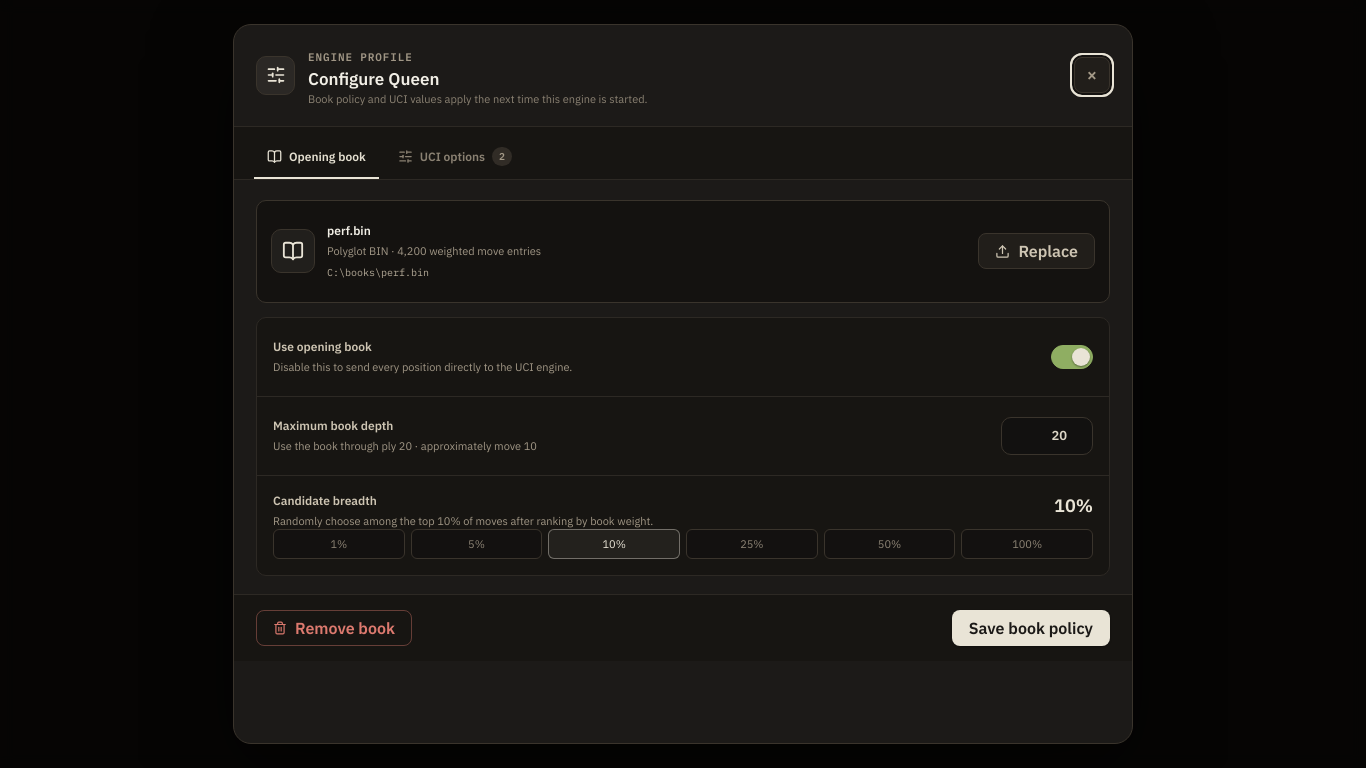
Scenario: engine configuration dialog › keeps book edits dirty when saving the policy fails
The image size is (1366, 768).
Click the button "5%". click: (477, 544)
box: [411,529,542,559]
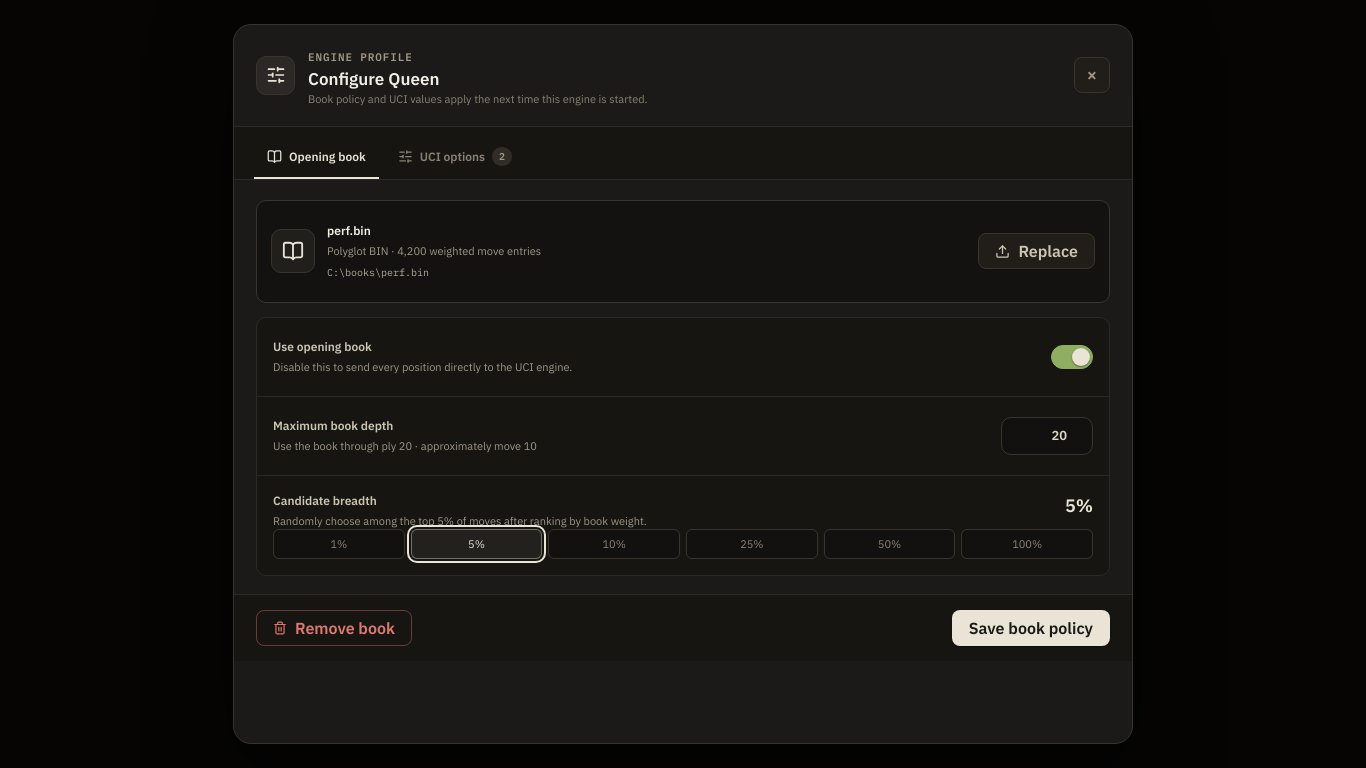
Click the button "Save book policy". click: (1031, 628)
box: [952,610,1110,646]
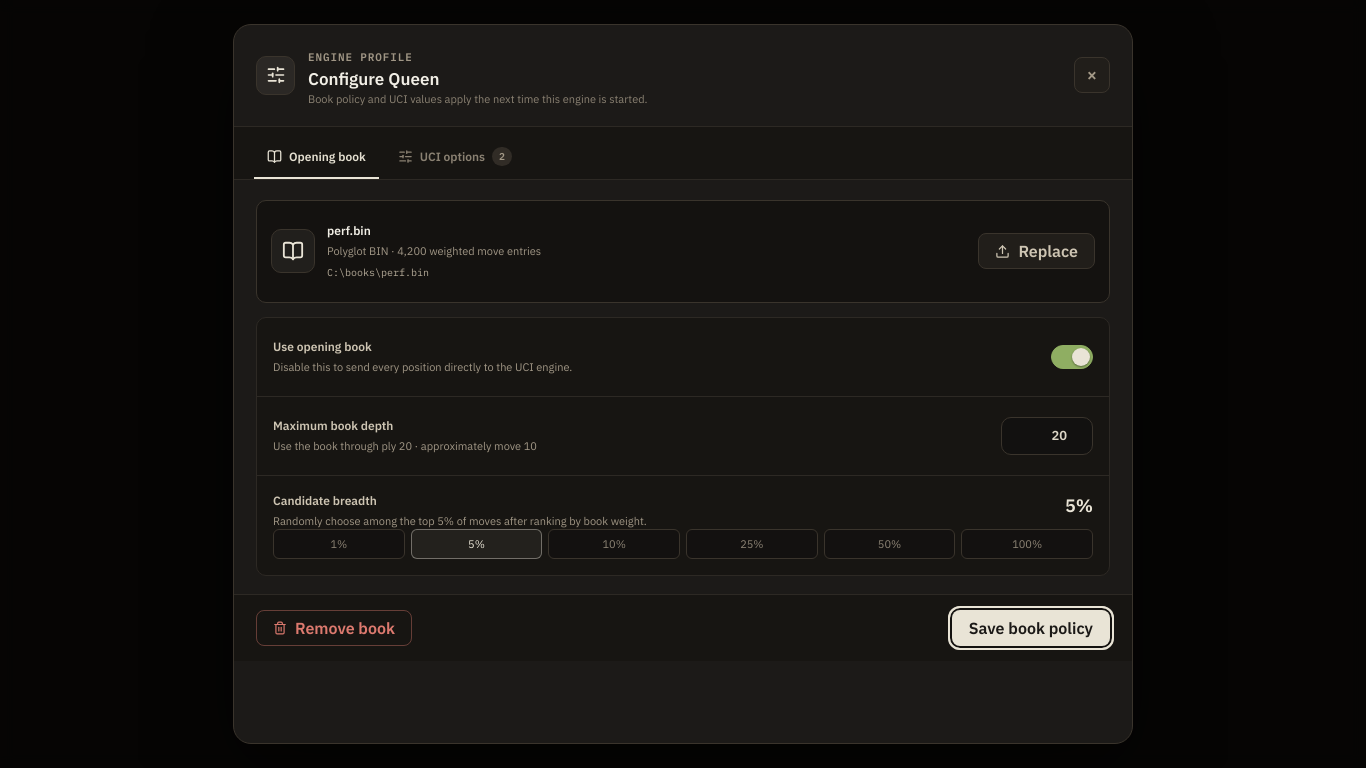
Click the button named "Close". click: (1092, 75)
box: [1074,57,1110,93]
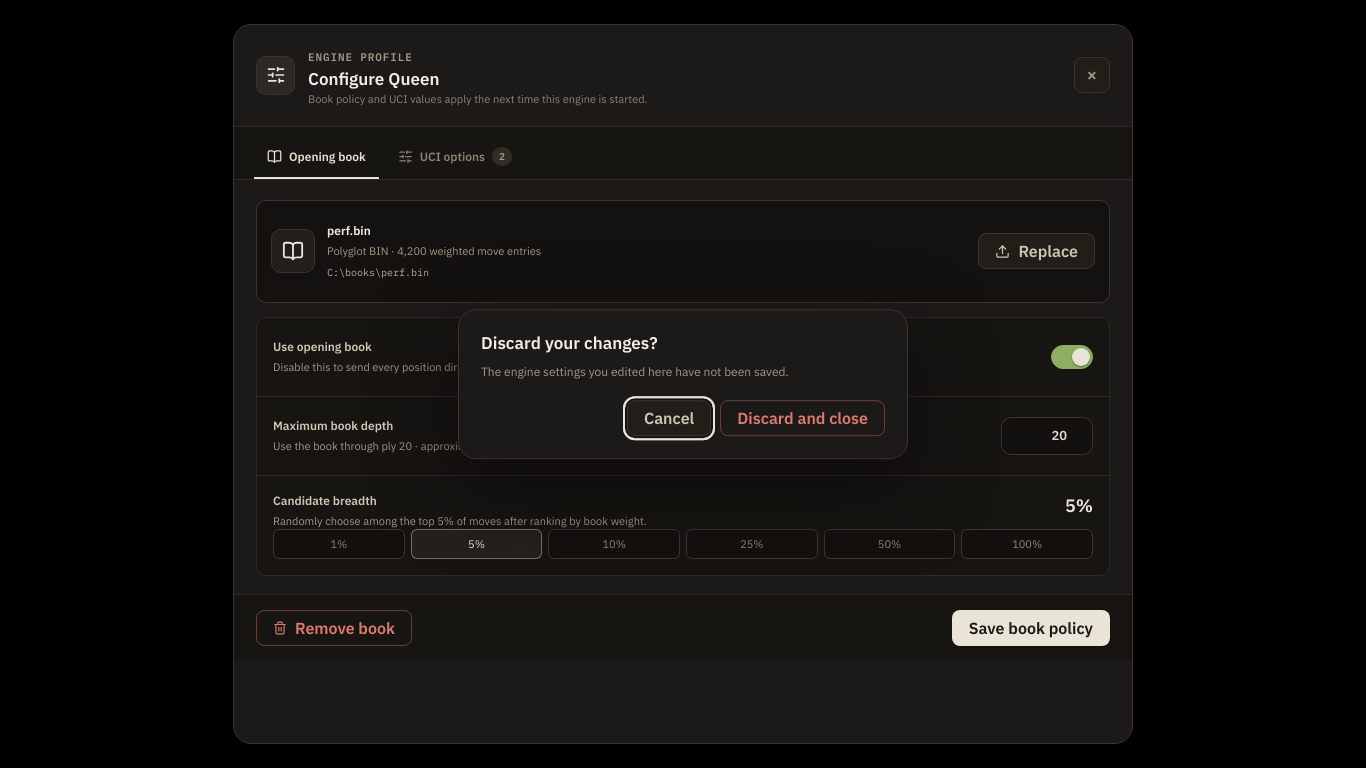
Now the heading "Discard your changes?" is shown, box [481,332,658,354]
